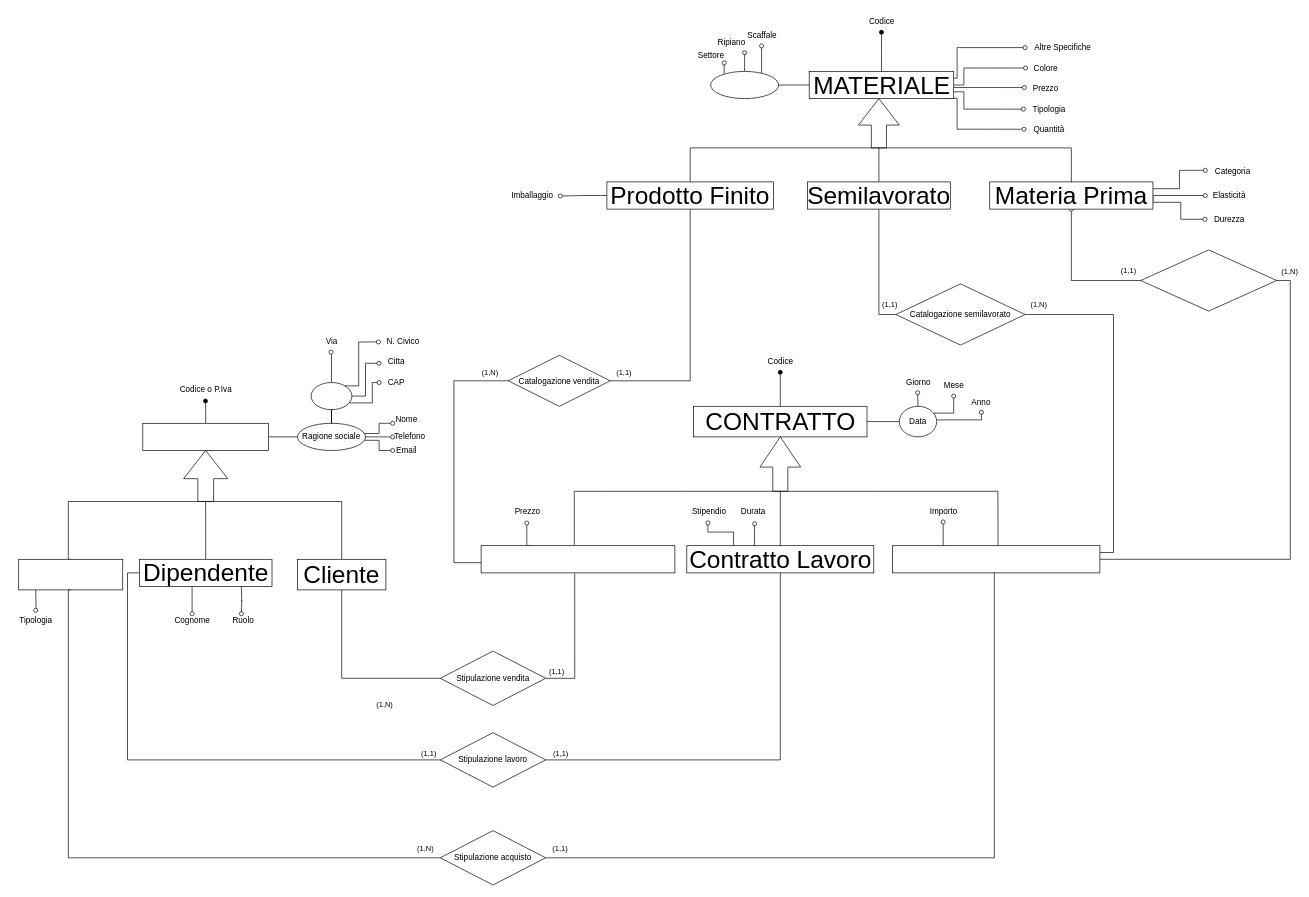
Image size: 1309x897. Some labels were removed from this diagram. The shapes that lost their labels are listed below. From the top down, each one's centre as x and y in pixels, then its label:
At point 744,85: "Localizzazione".
At point 1208,280: "Catalogazione materia prima".
At point 331,396: "Indirizzo".
At point 205,437: "PERSONA".
At point 70,574: "Fornitore".
At point 577,559: "Contratto Vendita".
At point 996,559: "Contratto Acquisto".
